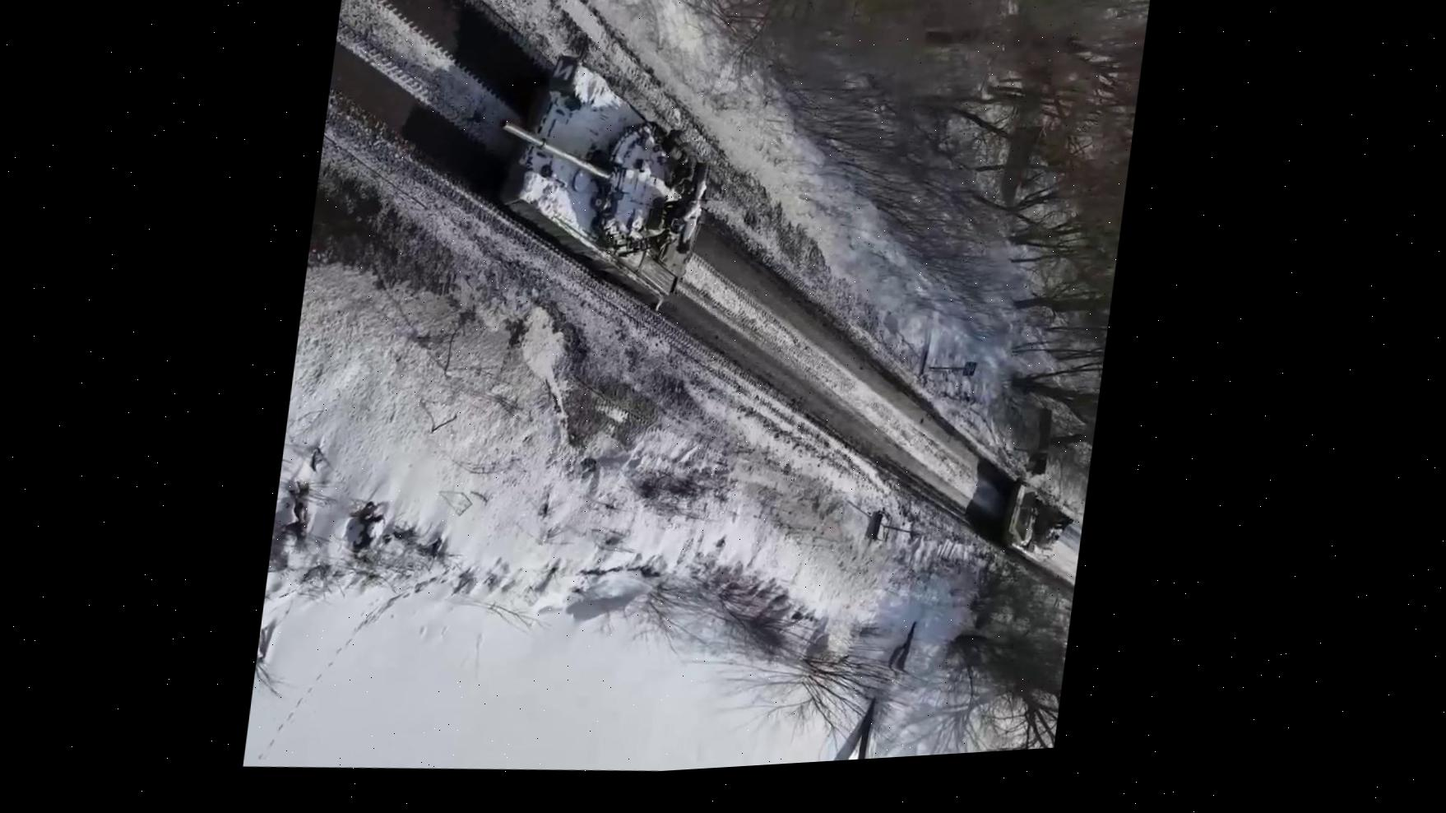tank: (476, 38, 728, 322), (994, 474, 1081, 565)
